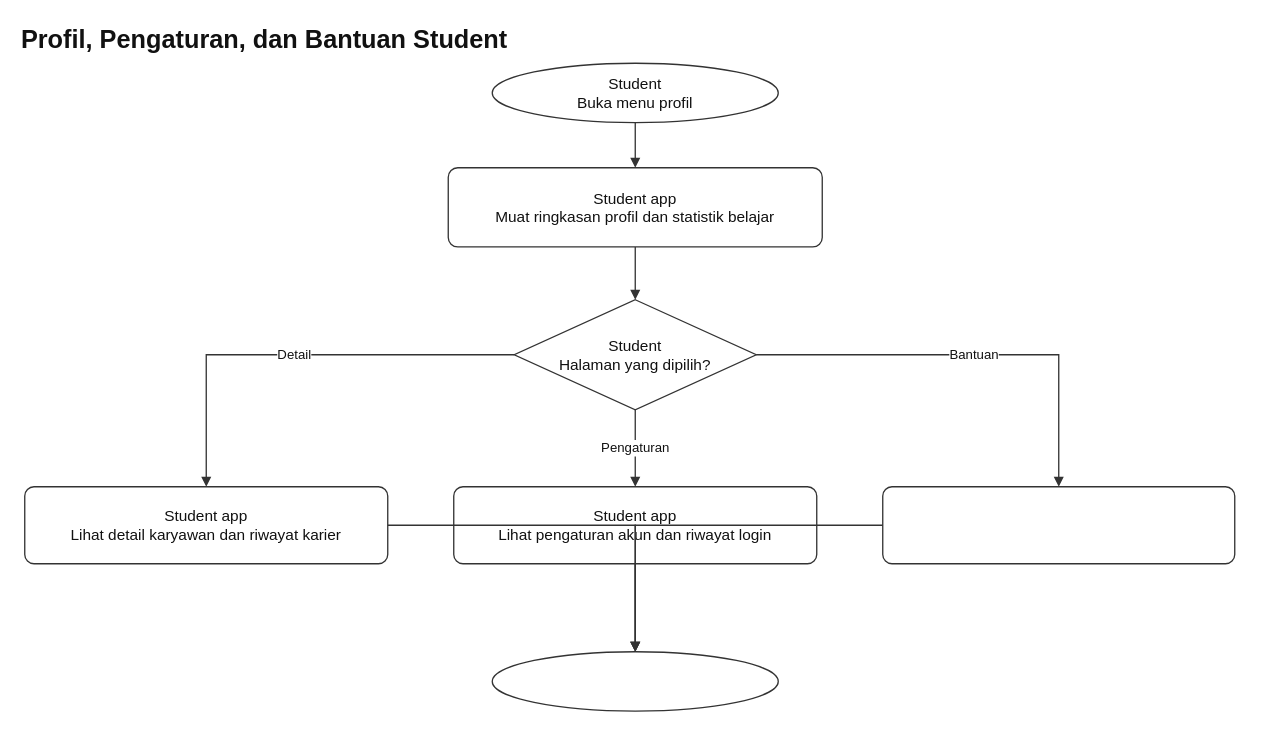
Image size: 1269x730. Some labels were removed from this diagram. The centre of each missing label's shape, as x and y in pixels:
"Student app Buka panduan dan informasi bantuan" goes at (x=1058, y=525).
"Student Kembali ke halaman profil" goes at (x=634, y=681).
